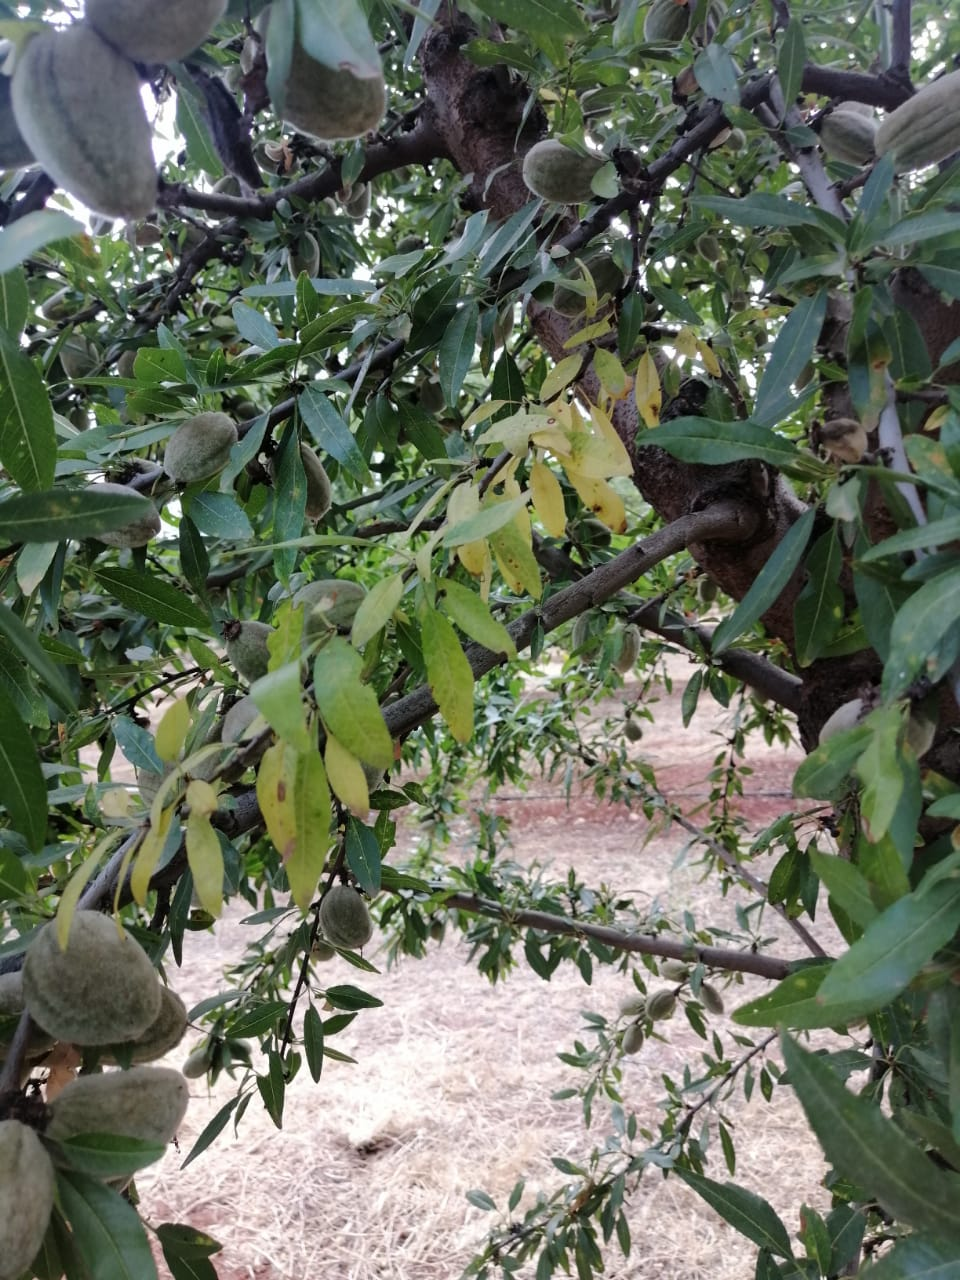chancre fusicocum: (53, 334, 663, 953)
